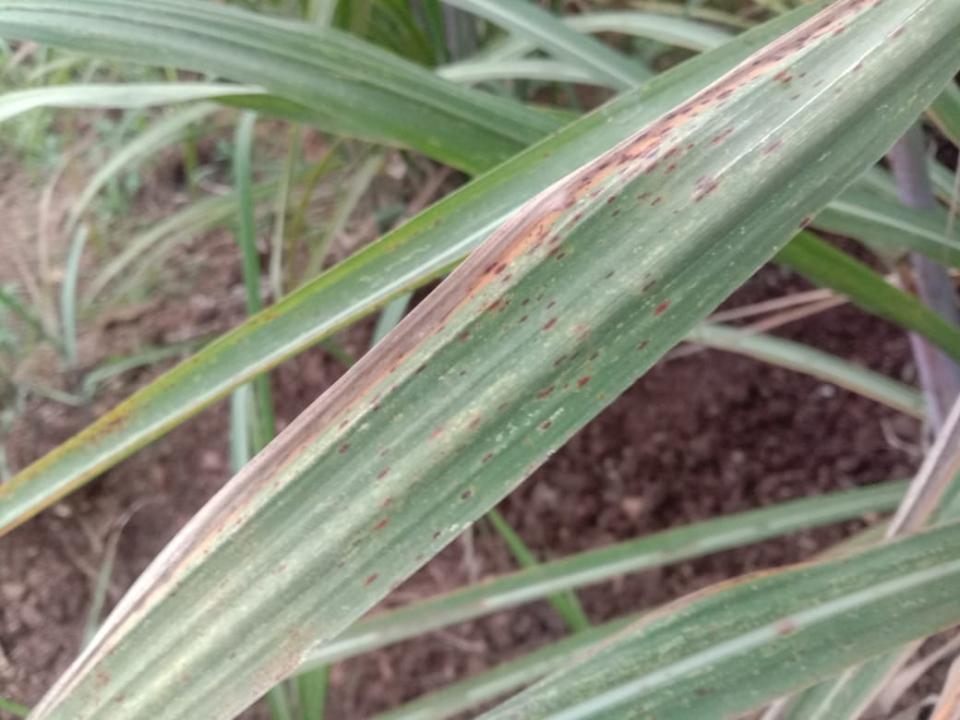Rust: (172, 0, 889, 594), (527, 343, 611, 436), (424, 393, 513, 449), (601, 261, 678, 324), (633, 170, 729, 211), (365, 444, 399, 534), (759, 137, 786, 157), (361, 569, 383, 592), (792, 212, 816, 231), (478, 448, 499, 468), (457, 486, 477, 503), (426, 529, 444, 544)
